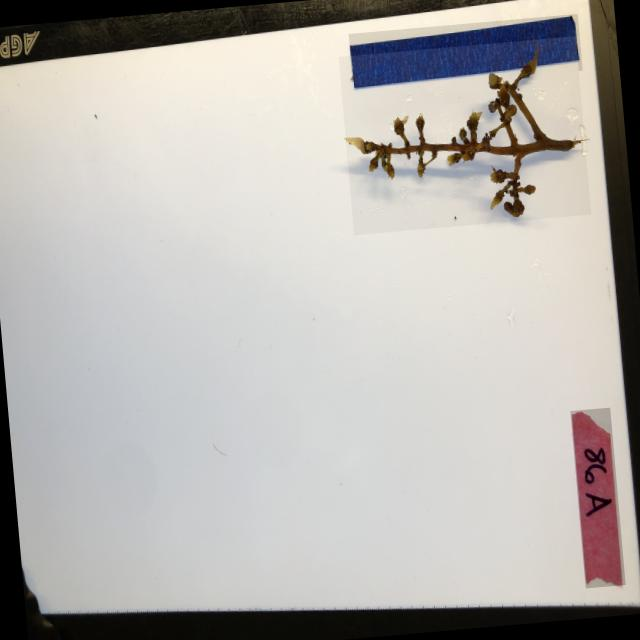index: (569, 408, 624, 588)
measure_label: (347, 14, 580, 90)
rachis_cluster: (336, 36, 590, 235)
